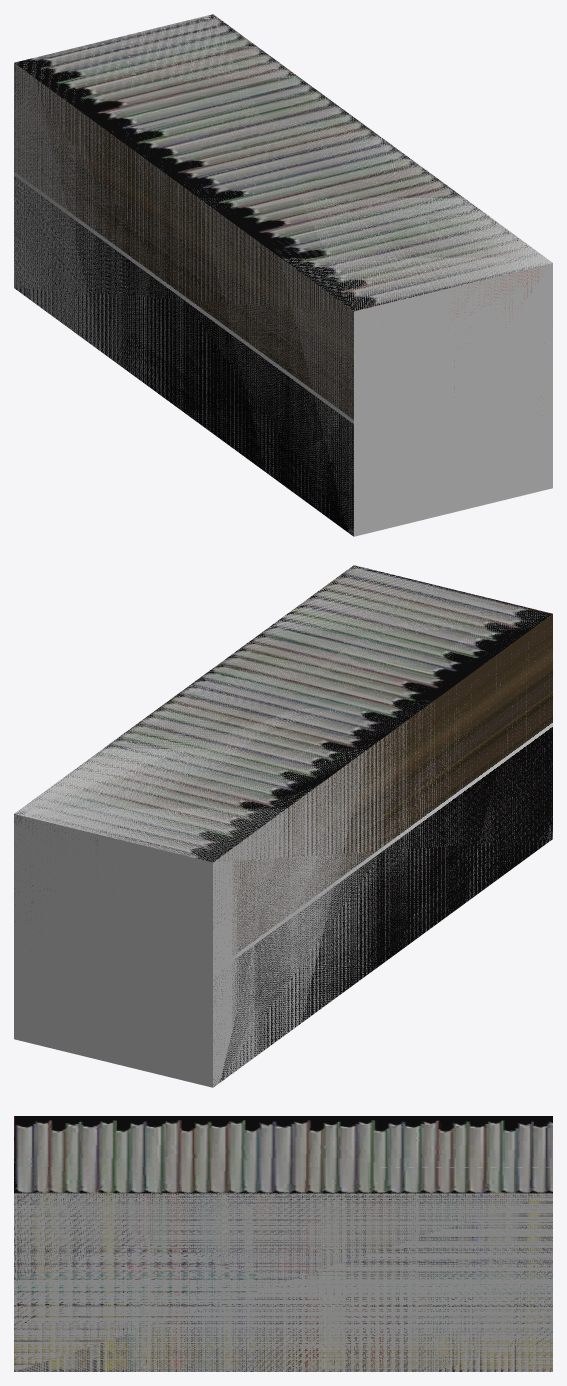
Rendered from books_01.DAE.
The picture shows the model from 3 angles, top to bottom: view 1: azimuth 30°, elevation 25°; view 2: azimuth 150°, elevation 25°; view 3: azimuth 270°, elevation 25°; orthographic projection. The views are drawn at different scales.
Parts seen in each view (by area): view 1: bounds, colbox-1, books_one100; view 2: bounds, books_one100, colbox-1; view 3: bounds, books_one100, colbox-1.
Boxes of the visible parts, bbox=[...] form: bounds: bbox=[14, 14, 552, 536]; colbox-1: bbox=[14, 64, 353, 535]; books_one100: bbox=[14, 14, 545, 402]; bounds: bbox=[14, 565, 552, 1087]; books_one100: bbox=[15, 565, 552, 862]; colbox-1: bbox=[14, 614, 552, 1086]; bounds: bbox=[14, 1167, 552, 1371]; books_one100: bbox=[14, 1116, 552, 1371]; colbox-1: bbox=[14, 1193, 552, 1371].
Bounding box in the file's own units: 25.09 × 74.16 × 27.13.
